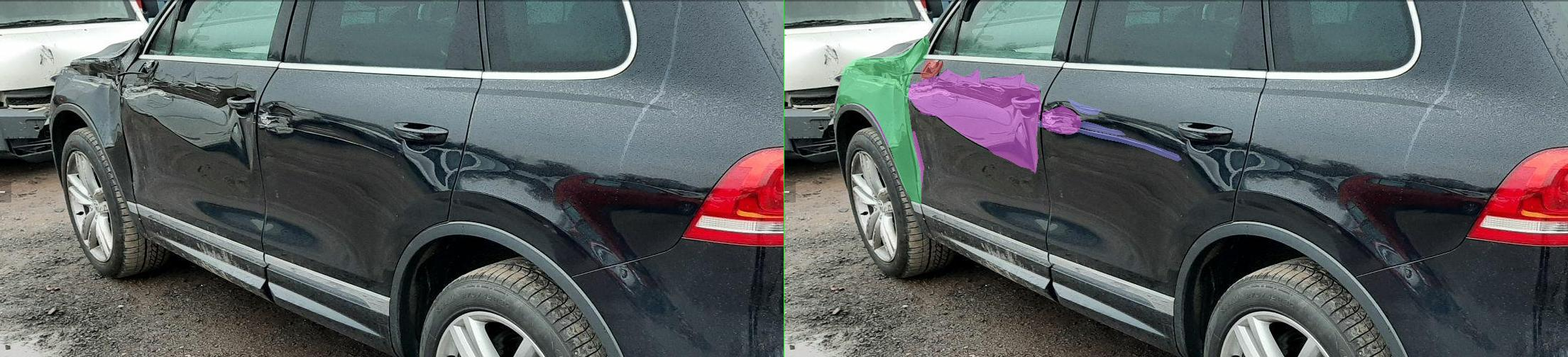Broken part: (104, 36, 290, 204)
Dent: (244, 69, 513, 173), (111, 56, 250, 147), (514, 106, 594, 134), (244, 131, 278, 191)
Missing part: (271, 60, 320, 79)
Scratch: (497, 120, 794, 161), (129, 70, 447, 107), (585, 121, 682, 135), (567, 98, 633, 114), (517, 110, 565, 124)
